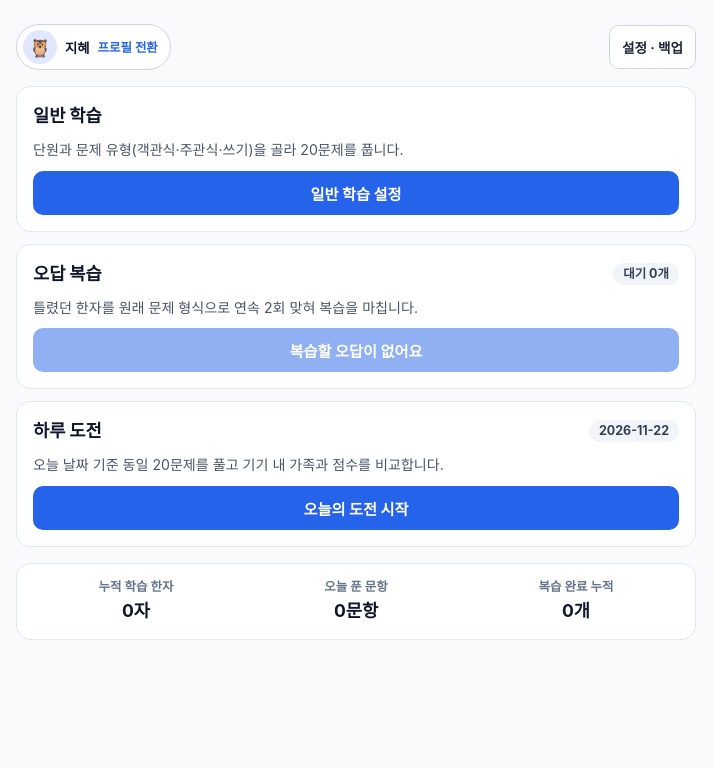
M4 UI & Full User Flow Integration Tests › 2. Validates < 20 char notice, disabled start on invalid config, and resume conflict modal
Later steps or results of the test are not shown.
Click the button "일반 학습 설정" at (356, 192), box [33, 170, 679, 214]
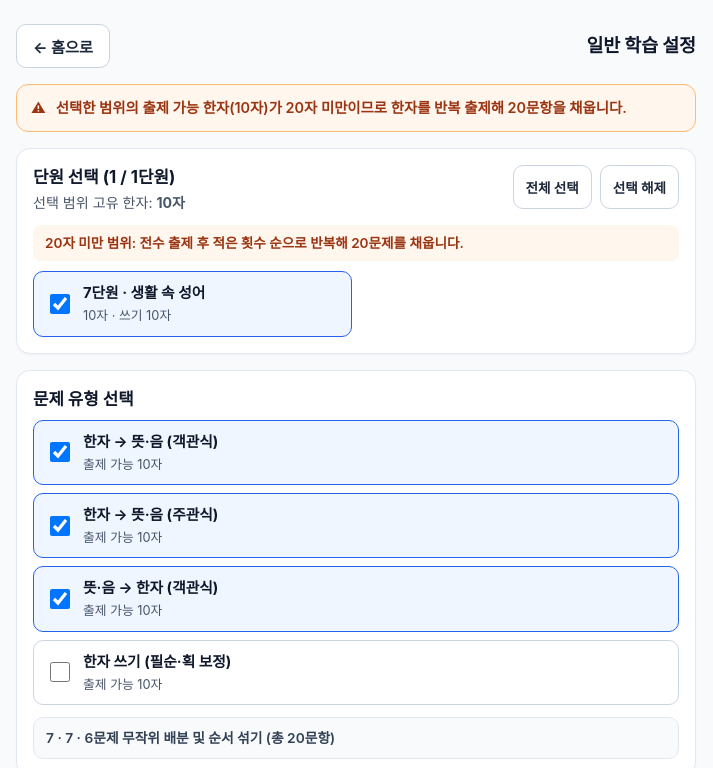
expect the text "20자 미만 범위: 전수 출제 후 적은 횟수 순으로 반복해 20문제를 채웁니다." is shown: met, box [33, 225, 679, 261]
Click the button "선택 해제" at (639, 187), box [600, 165, 679, 209]
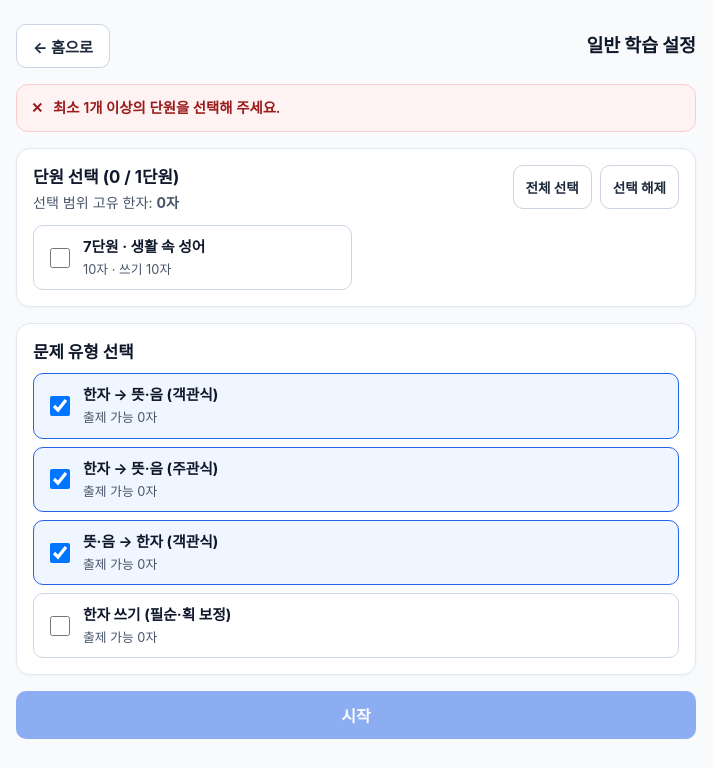
expect the text "최소 1개 이상의 단원을 선택해 주세요." is shown: met, box [53, 97, 280, 119]
expect the button "시작" is disabled: met, box [16, 691, 696, 739]
Click the button "전체 선택" at (552, 187), box [512, 165, 592, 209]
(page scrolled)
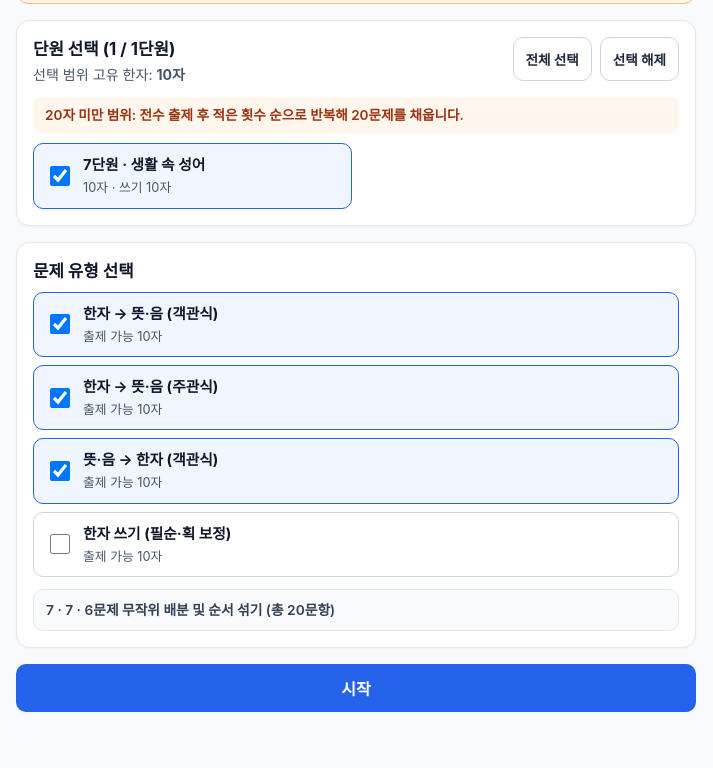
expect the button "시작" is enabled: met
Click the button "시작" at (356, 688), box [16, 664, 696, 712]
(page scrolled)
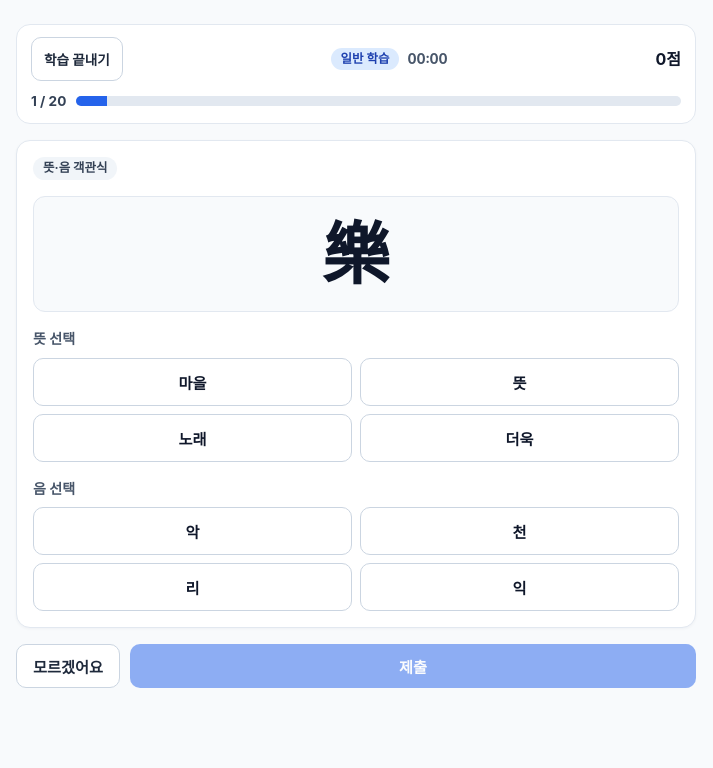
expect the element with test id "quiz-screen" is shown: met
